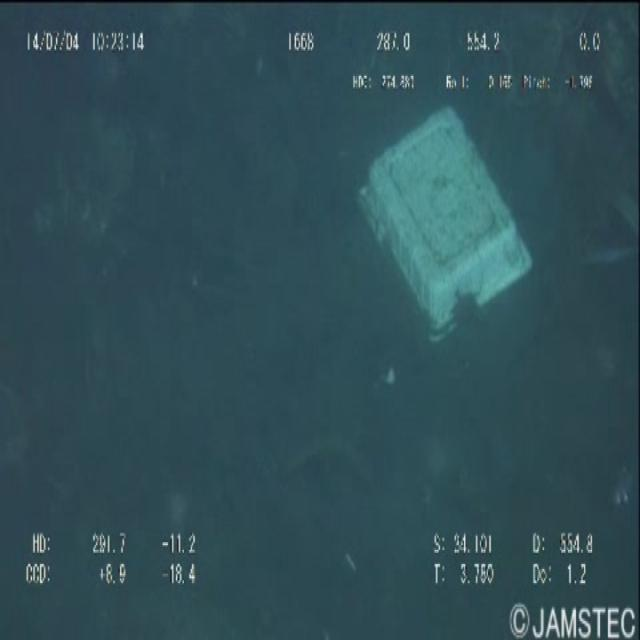Cutlery: (356, 98, 543, 352)
